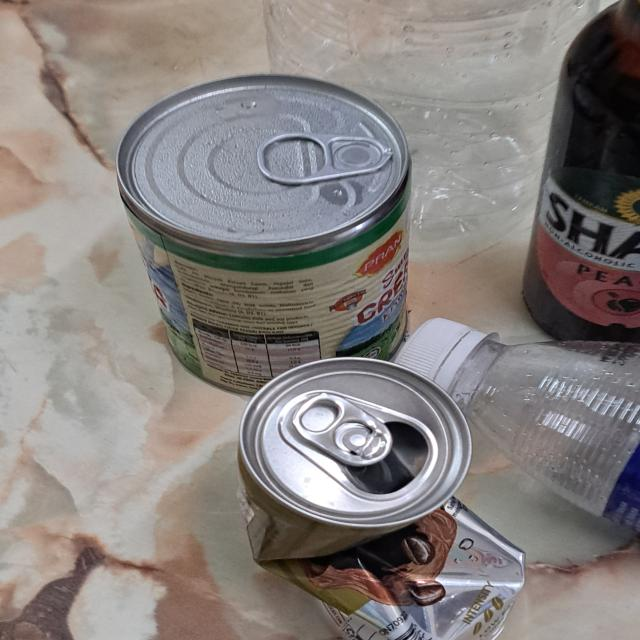can: (120, 75, 418, 397), (231, 356, 526, 640)
glass bottle: (522, 0, 640, 346)
plastic bottle: (266, 0, 590, 262), (460, 341, 640, 544)
plastic bottle cap: (397, 317, 473, 387)
pop tab: (284, 390, 394, 464), (254, 132, 394, 186)
